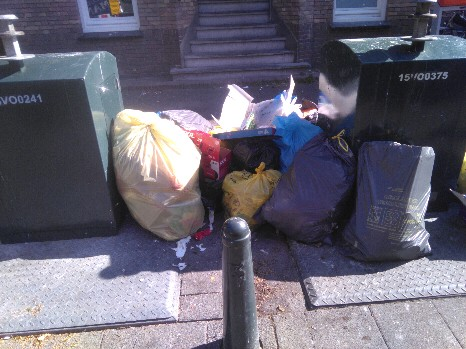Container: (2, 13, 114, 234), (324, 27, 466, 138)
Rest: (133, 116, 232, 249), (363, 152, 433, 269), (289, 138, 357, 249), (224, 158, 281, 229), (196, 129, 240, 190), (229, 131, 285, 173), (168, 105, 221, 145), (215, 98, 267, 129), (269, 107, 310, 145), (261, 89, 300, 121)
